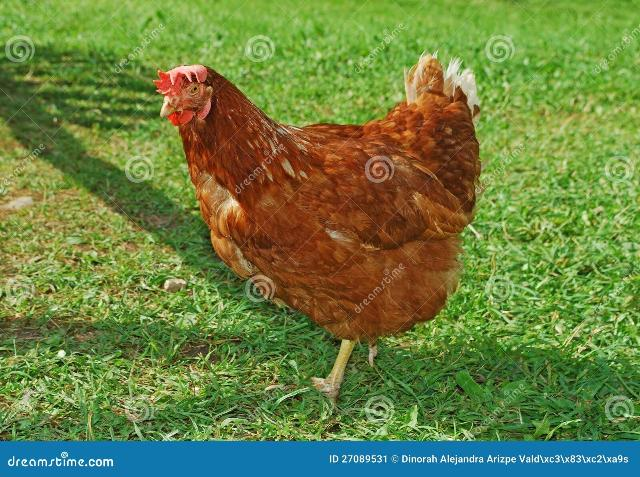Chicken: (155, 48, 482, 399)
